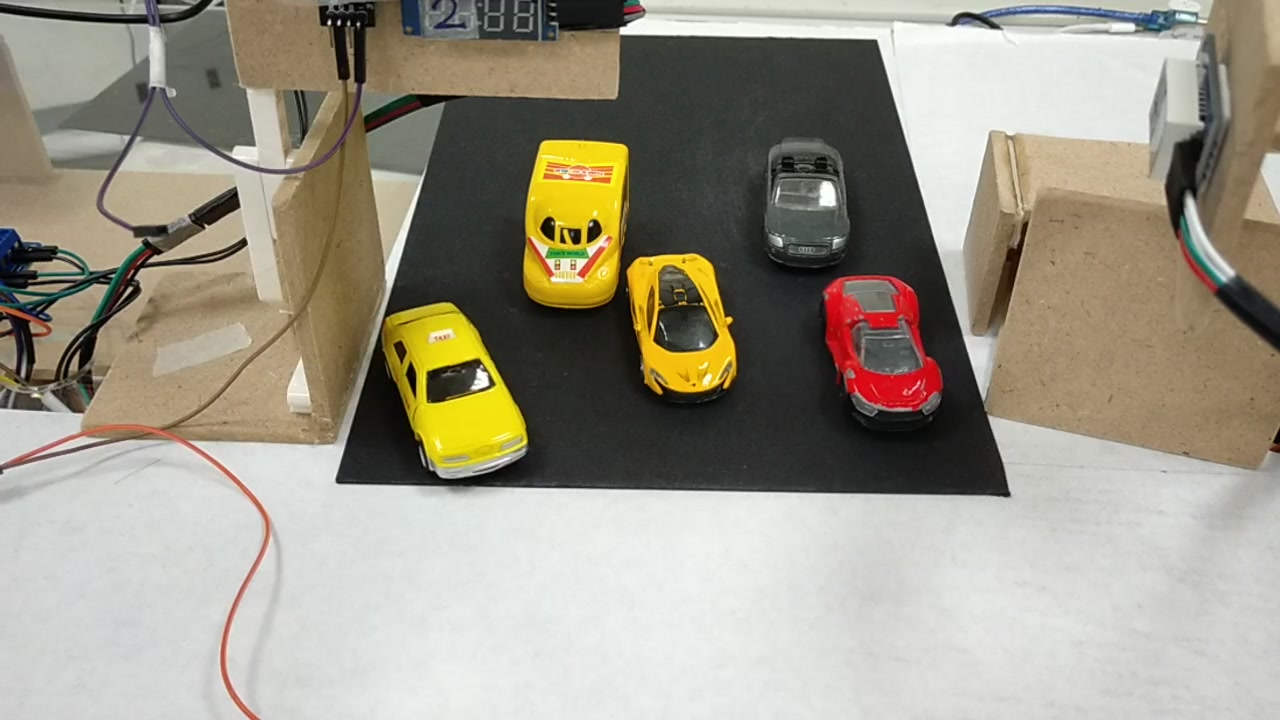car: (372, 306, 529, 477), (825, 275, 948, 421), (620, 253, 744, 397), (757, 142, 852, 265)
